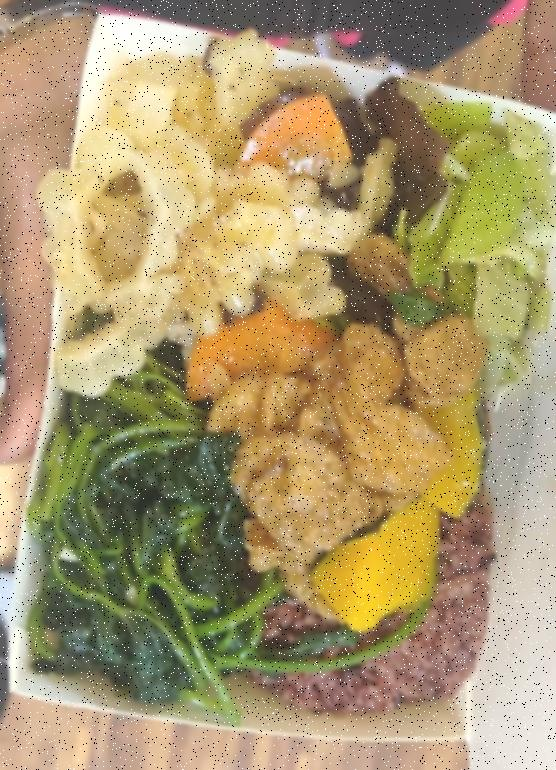big grilled chicken leg: (0, 12, 552, 752)
braised fish: (238, 417, 506, 721)
braised fish fillet: (197, 321, 486, 618), (45, 47, 287, 384), (33, 367, 231, 705), (415, 100, 546, 374), (262, 87, 409, 320)
